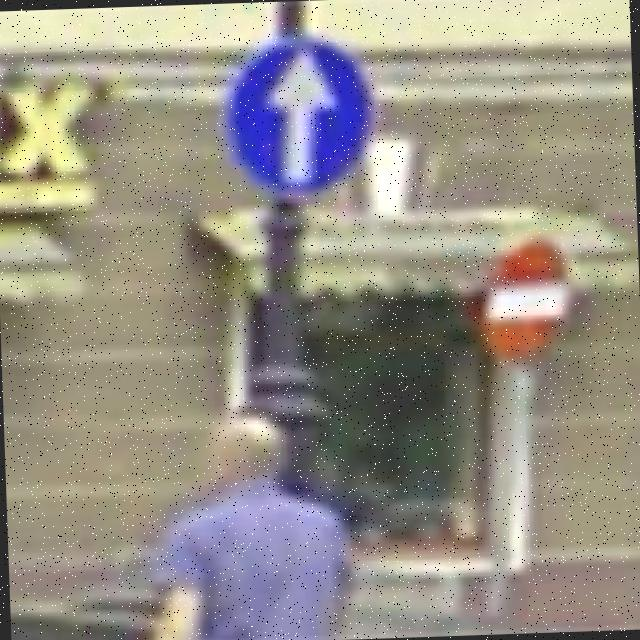Zakaz wjazdu: (470, 232, 578, 368)
